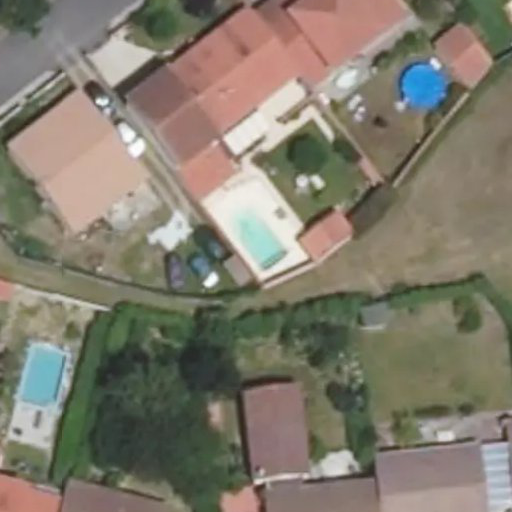pool: (223, 225, 287, 258)
